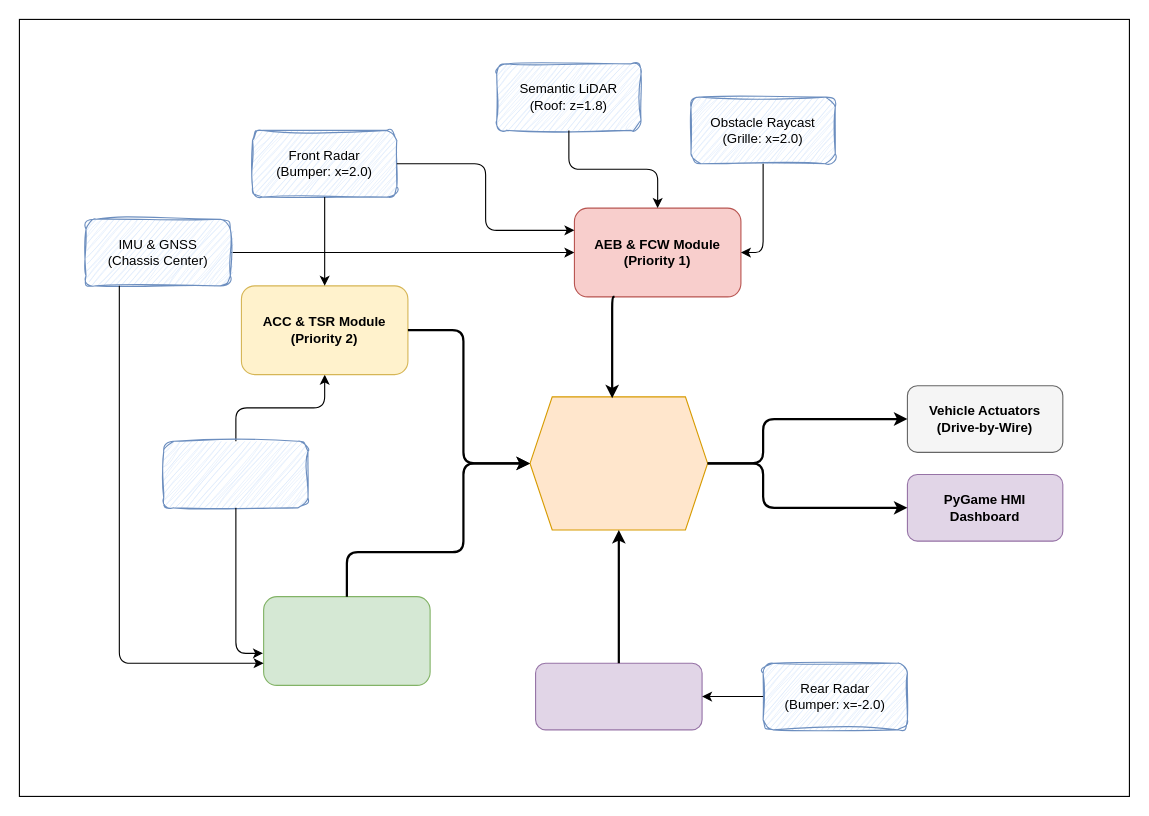
Image size: 1149x816. Some labels were removed from this diagram. The shapes that lost their labels are listed below. From the top down, each one's centre as x and y in pixels, then its label:
At point 235,474: "Cameras (Windshield)".
At point 618,463: "Central ADAS Arbitration Hub".
At point 346,640: "LKA & LDW Module (Priority 3)".
At point 618,696: "BSM Module (Alerts)".
